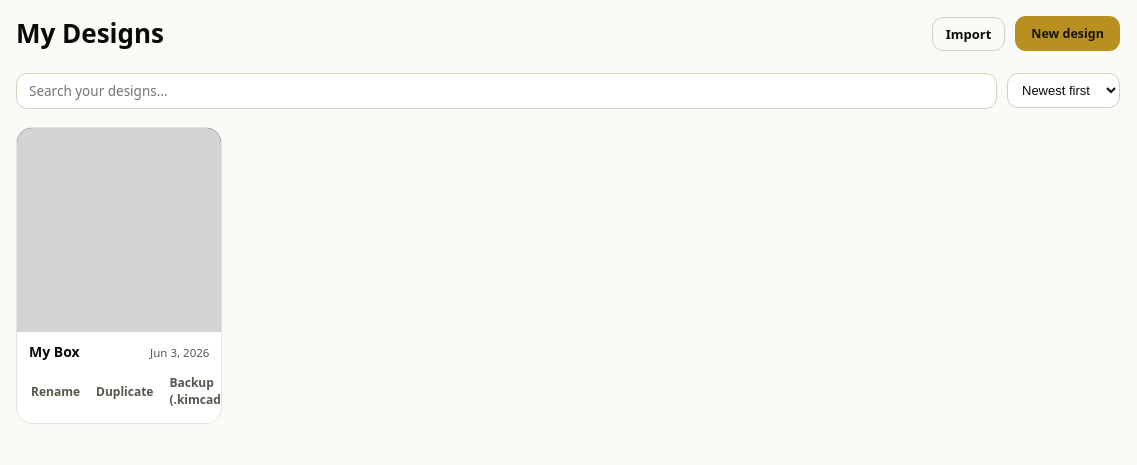
Test case: MyDesigns › surfaces a per-card error when an action fails (UX-007)
The image size is (1137, 465).
Expected: the button "My Box" is shown, 29,342 -> 80,361
Step 1. Click the button "Duplicate" → [125, 391], box 90,370 -> 159,413
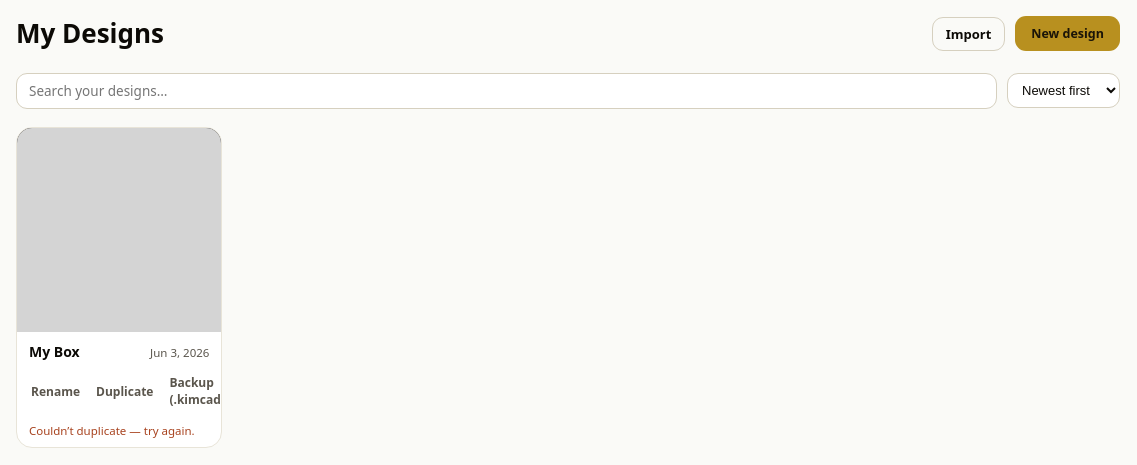
Expected: the text "Couldn’t duplicate — try again." is shown, 29,422 -> 209,439
